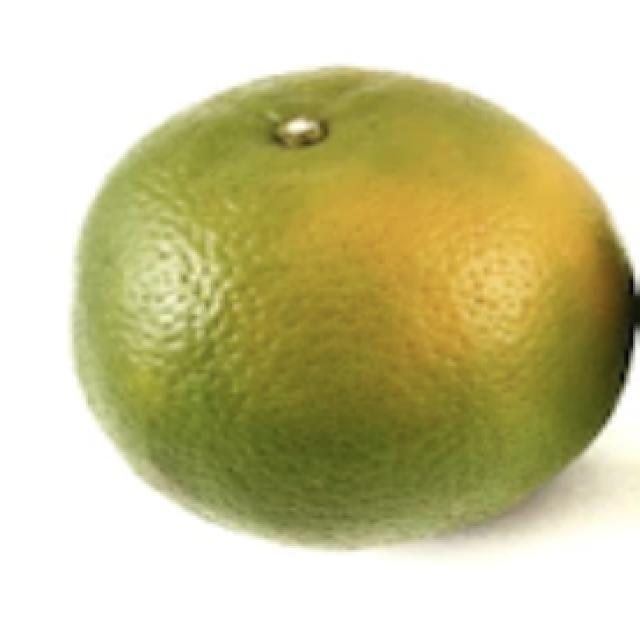Orange: (70, 64, 638, 550)
